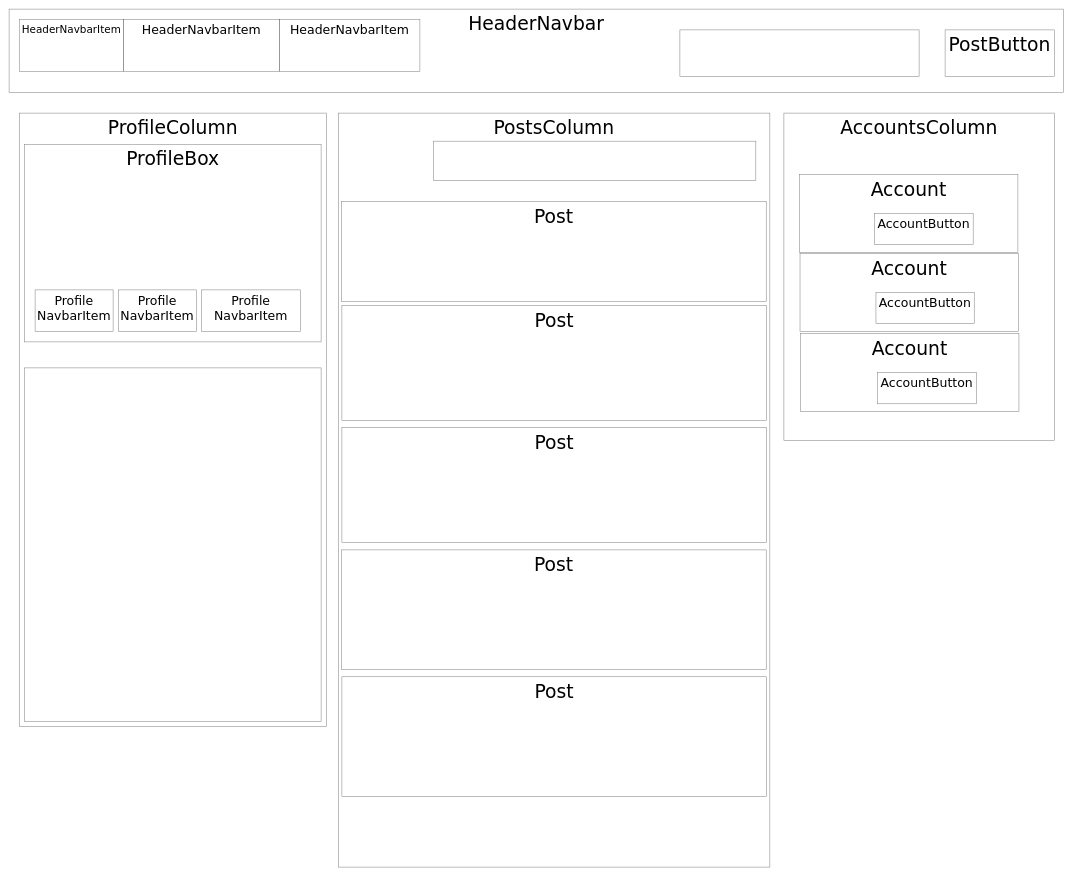
This 1073x876 diagram has some shape labels left out. The centre of each missing label's shape, as x and y in pixels:
"PostBar" goes at point (594, 161).
"ProfileDescription" goes at point (172, 544).
"SearchBar" goes at point (799, 53).
